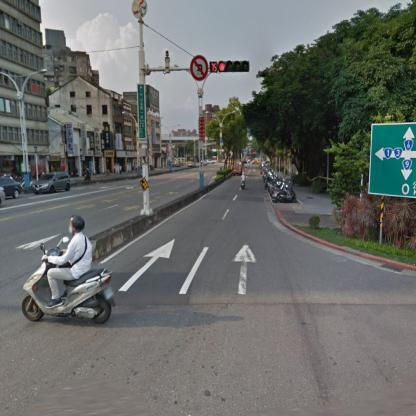Red Light: (208, 60, 250, 74)
